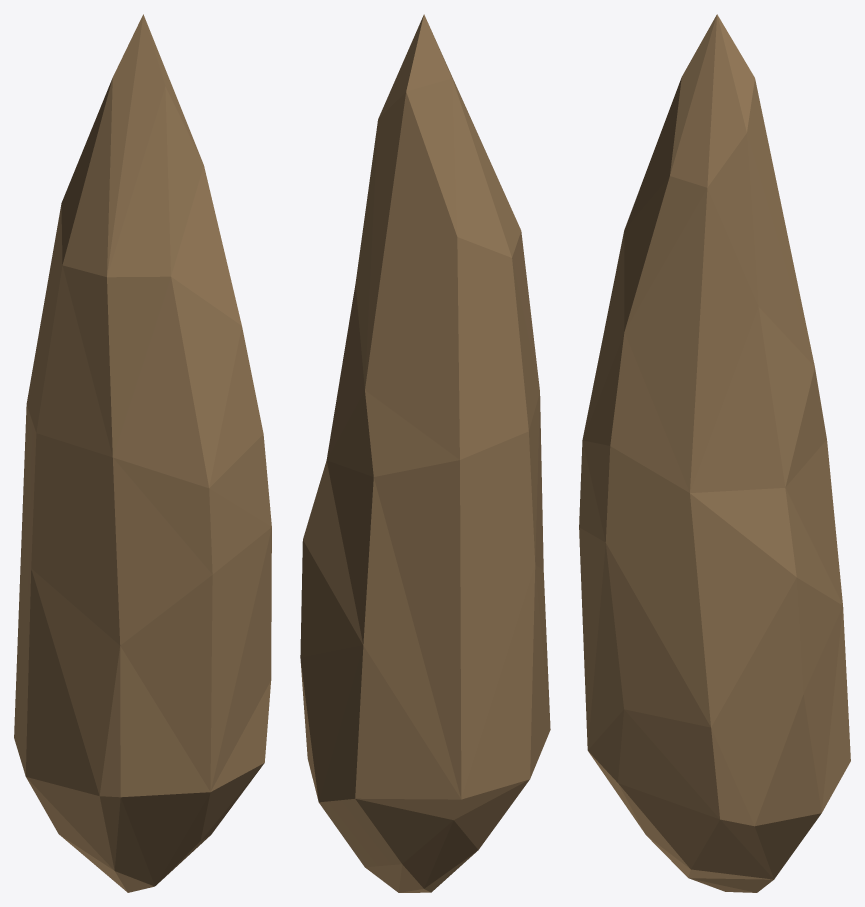
The model's file is SM_Env_Stalagmite_03.gltf.
3 views of the same model, side by side, from view 1: azimuth 30°, elevation 25°; view 2: azimuth 150°, elevation 25°; view 3: azimuth 270°, elevation 25° (orthographic).
Parts seen in each view (by area): view 1: SM_Env_Stalagmite_03; view 2: SM_Env_Stalagmite_03; view 3: SM_Env_Stalagmite_03.
Boxes of the visible parts, <box> form: SM_Env_Stalagmite_03: <box>14,14,271,892</box>; SM_Env_Stalagmite_03: <box>300,14,550,892</box>; SM_Env_Stalagmite_03: <box>579,14,850,892</box>.
Bounding box in the file's own units: 0.267 × 0.9994 × 0.2787.
1 material, 1 textured.
